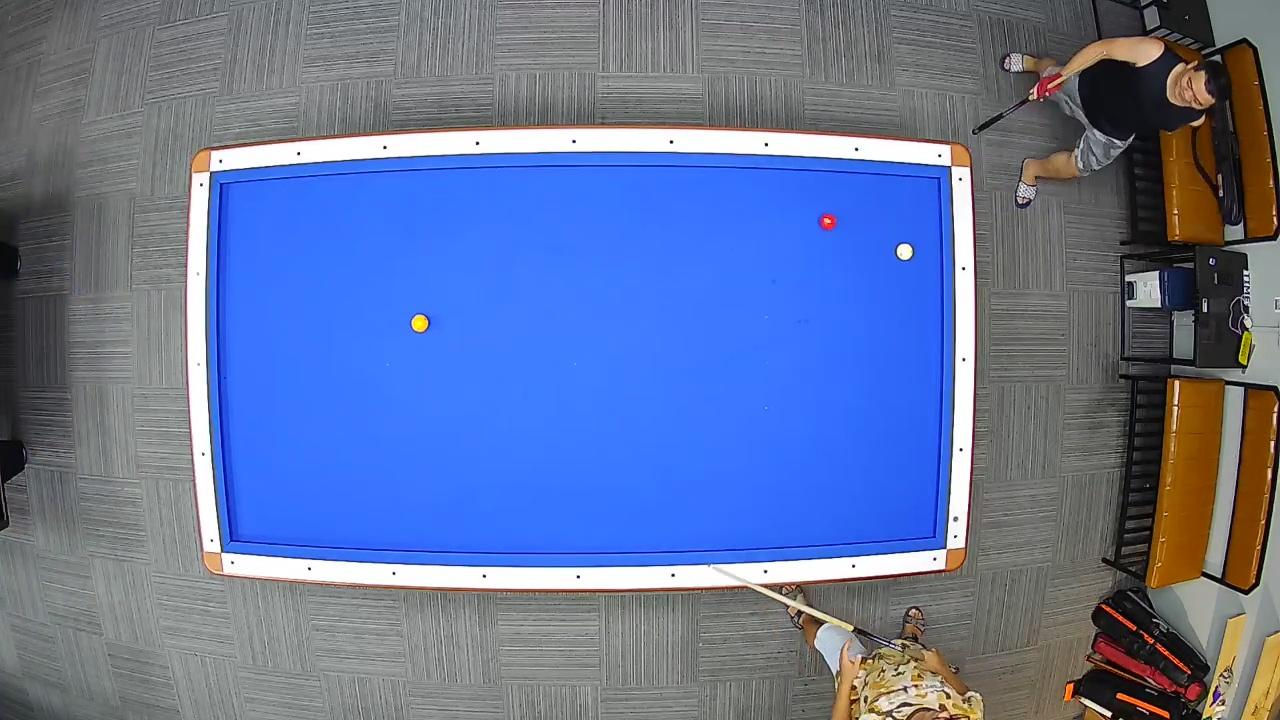Red: (819, 212, 838, 232)
White: (896, 240, 914, 262)
Yellow: (411, 314, 431, 334)
